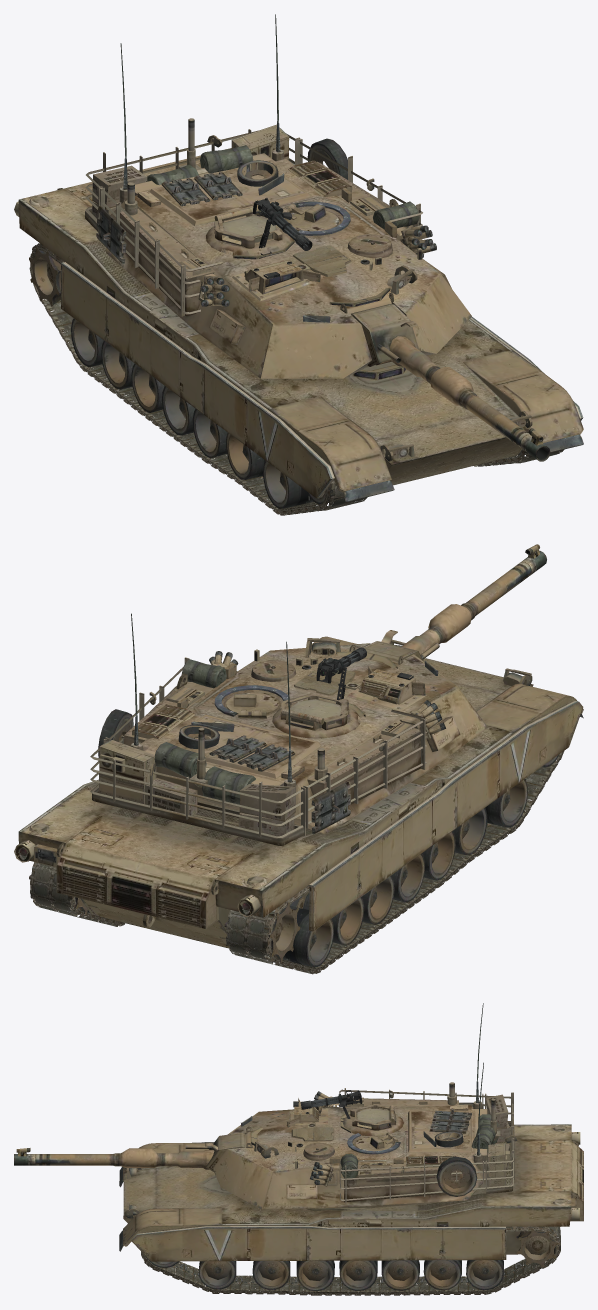
3 renders of one model, top to bottom at view 1: azimuth 30°, elevation 25°; view 2: azimuth 150°, elevation 25°; view 3: azimuth 270°, elevation 25°, orthographic. The views are drawn at different scales.
Parts seen in each view (by area): view 1: Object_5, Object_2, Object_3; view 2: Object_5, Object_2, Object_3; view 3: Object_5, Object_2, Object_3.
Part boxes in pixels (<box>): Object_5: <box>14,14,583,508</box>; Object_2: <box>29,243,564,515</box>; Object_3: <box>253,198,312,250</box>; Object_5: <box>14,544,583,967</box>; Object_2: <box>30,751,564,974</box>; Object_3: <box>316,647,366,683</box>; Object_5: <box>14,1003,583,1291</box>; Object_2: <box>141,1226,560,1295</box>; Object_3: <box>300,1090,362,1109</box>.
Size of the model in its own units: 252 by 308 by 709.
Materials: 4 (4 with a texture image).
